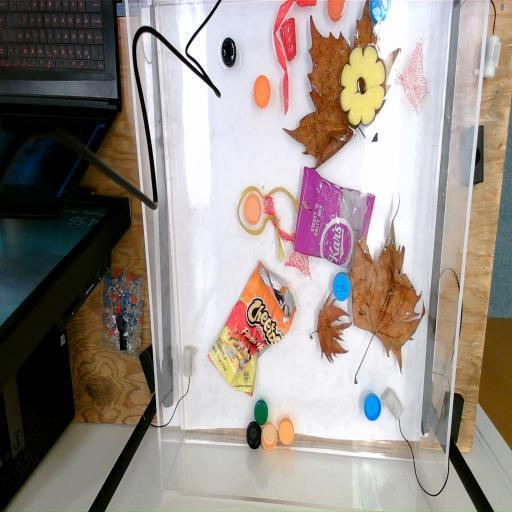Bottle Cap: (276, 415, 298, 451), (252, 72, 272, 110), (368, 0, 394, 27), (244, 190, 262, 226), (332, 272, 353, 302), (258, 422, 277, 454), (220, 37, 238, 69), (324, 0, 348, 24), (363, 392, 383, 420), (247, 421, 265, 452), (253, 398, 271, 426)
Cone Cap: (278, 18, 298, 63)
Leaf: (282, 12, 404, 169), (352, 196, 426, 385), (310, 290, 356, 364)
Netting: (264, 194, 320, 278), (392, 34, 434, 116)
Plastic Bag: (206, 255, 298, 398), (292, 162, 378, 271)
Plastic Strand: (228, 182, 316, 260), (272, 0, 298, 116)
Sponge: (338, 46, 386, 128)
